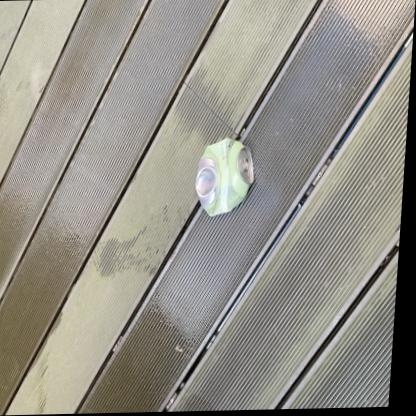trash: (196, 138, 253, 215)
